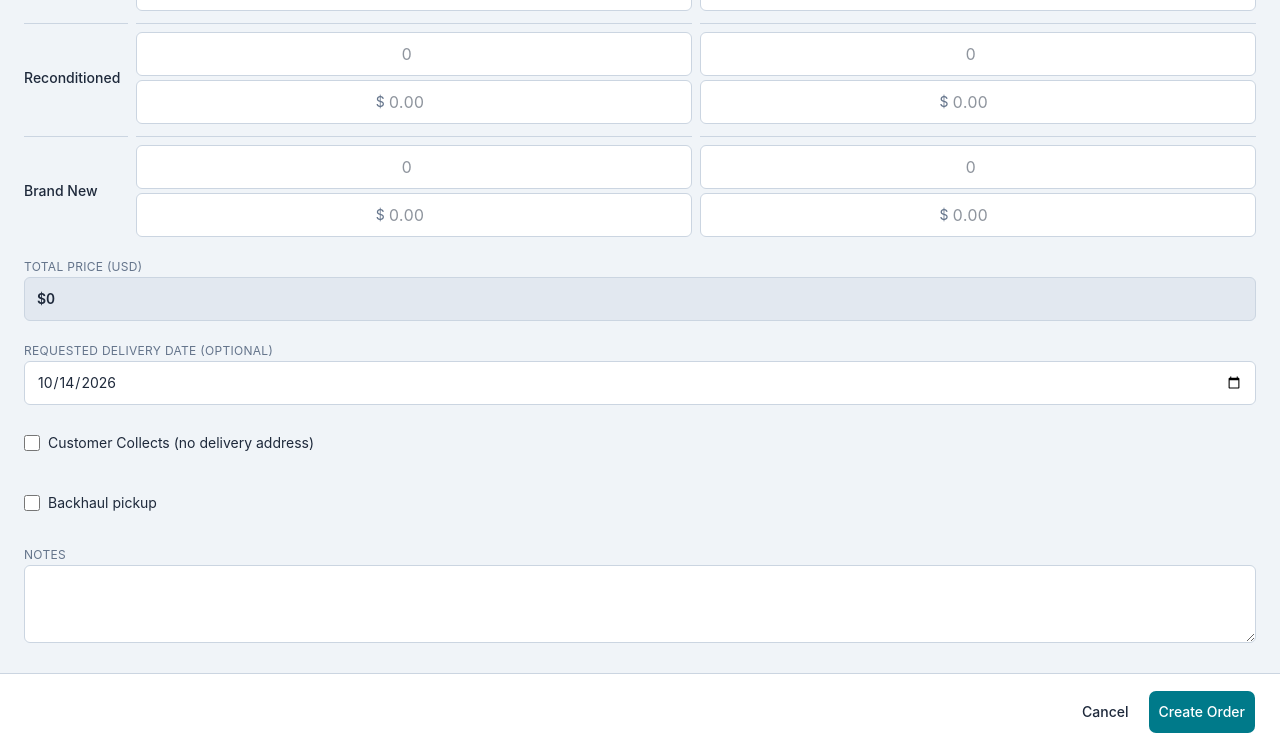
Scenario: OrderForm › blocks submit and surfaces the PO number error when empty
The width and height of the screenshot is (1280, 750).
(page scrolled)
Click the button "Create Order" at (1202, 712), box [1148,690,1256,734]
(page scrolled)
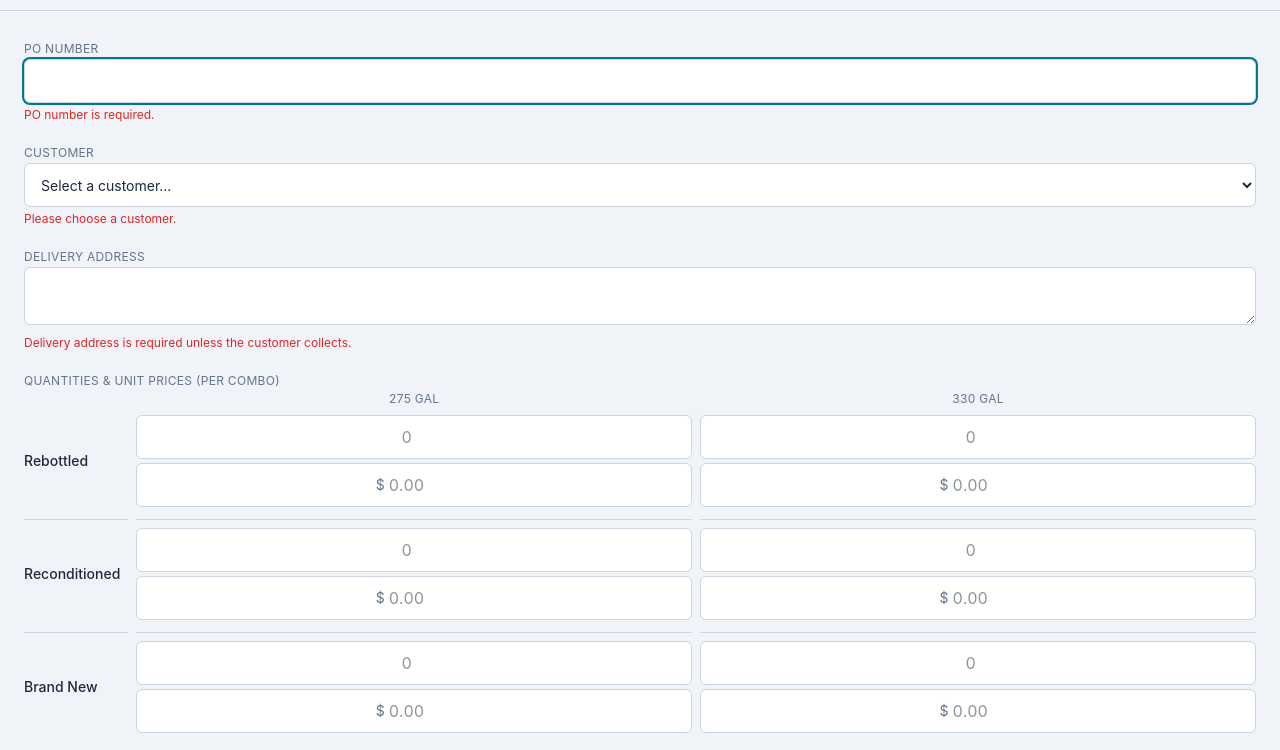
Expected: the text "PO number is required." is shown, [24,107,154,122]
